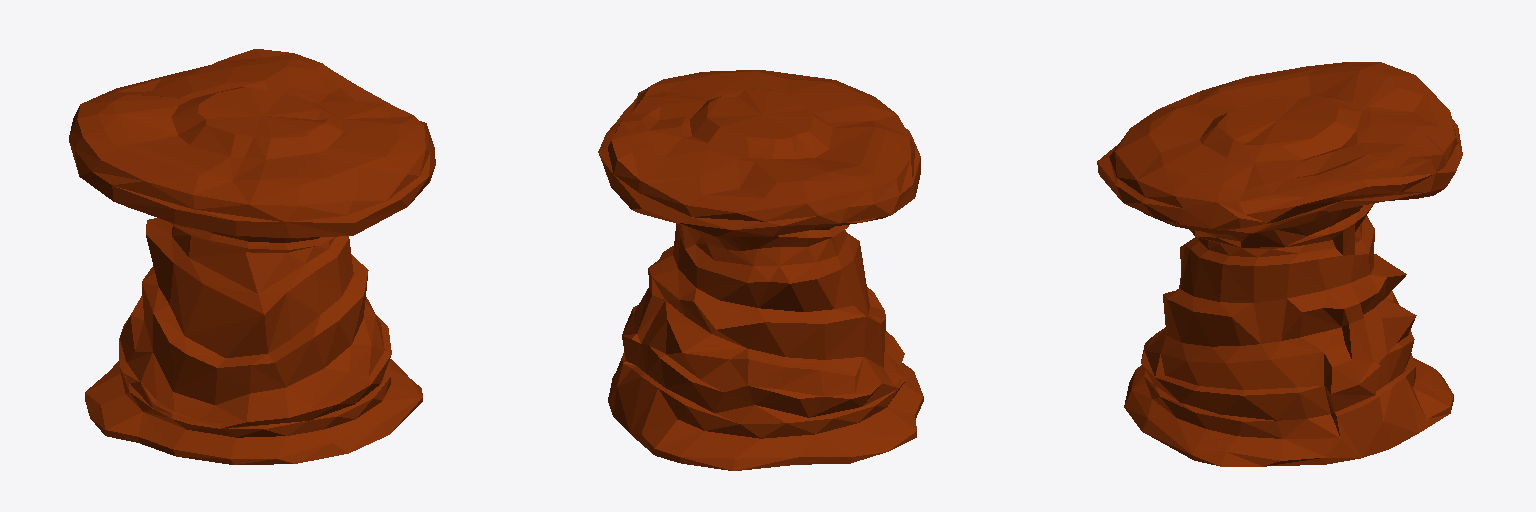
The model's file is rock_1.obj.
3 views of the same model, side by side, from view 1: azimuth 30°, elevation 25°; view 2: azimuth 150°, elevation 25°; view 3: azimuth 270°, elevation 25° (orthographic).
Visible parts, largest first — view 1: Cylinder; view 2: Cylinder; view 3: Cylinder.
Boxes of the visible parts, <box> form: Cylinder: <box>69,49,435,464</box>; Cylinder: <box>598,70,923,470</box>; Cylinder: <box>1097,62,1462,466</box>.
Size of the model in its own units: 6.14 by 5.63 by 6.47.